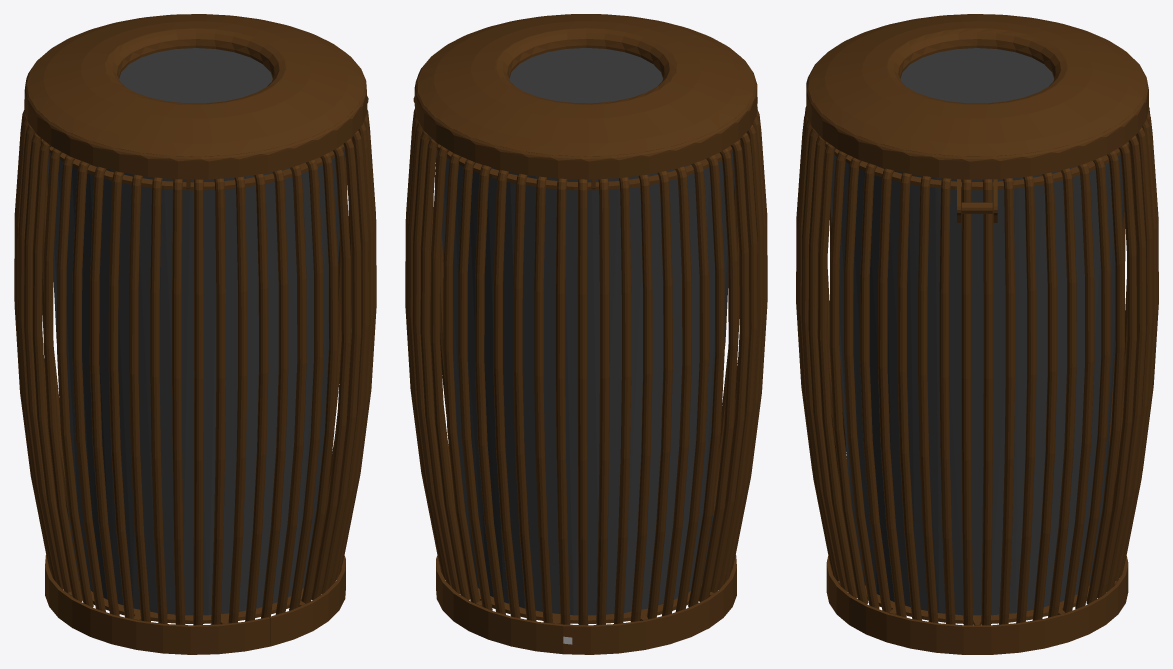
3 views of the same model, side by side, from view 1: azimuth 30°, elevation 25°; view 2: azimuth 150°, elevation 25°; view 3: azimuth 270°, elevation 25° (orthographic).
Visible parts, largest first — view 1: mesh45.002_mesh45-geometry, mesh9.002_mesh9-geometry, mesh43.002_mesh43-geometry, mesh1.062_mesh1-geometry, mesh1.092_mesh1-geometry, mesh1.095_mesh1-geometry, mesh1.054_mesh1-geometry, mesh1.096_mesh1-geometry, mesh1.061_mesh1-geometry, mesh1.053_mesh1-geometry, mesh1.063_mesh1-geometry, mesh1.093_mesh1-geometry (+20 smaller); view 2: mesh45.002_mesh45-geometry, mesh9.002_mesh9-geometry, mesh43.002_mesh43-geometry, mesh1.077_mesh1-geometry, mesh1.091_mesh1-geometry, mesh1.085_mesh1-geometry, mesh1.084_mesh1-geometry, mesh1.081_mesh1-geometry, mesh1.078_mesh1-geometry, mesh1.089_mesh1-geometry, mesh1.090_mesh1-geometry, mesh1.051_mesh1-geometry (+20 smaller); view 3: mesh45.002_mesh45-geometry, mesh9.002_mesh9-geometry, mesh43.002_mesh43-geometry, mesh1.072_mesh1-geometry, mesh1.097_mesh1-geometry, mesh1.076_mesh1-geometry, mesh1.073_mesh1-geometry, mesh1.100_mesh1-geometry, mesh1.065_mesh1-geometry, mesh1.096_mesh1-geometry, mesh1.077_mesh1-geometry, mesh1.075_mesh1-geometry (+19 smaller).
Part boxes in pixels (<box>): mesh45.002_mesh45-geometry: <box>47,48,345,615</box>; mesh9.002_mesh9-geometry: <box>24,14,367,179</box>; mesh43.002_mesh43-geometry: <box>45,555,345,654</box>; mesh1.062_mesh1-geometry: <box>43,148,82,601</box>; mesh1.092_mesh1-geometry: <box>261,170,288,618</box>; mesh1.095_mesh1-geometry: <box>301,153,338,603</box>; mesh1.054_mesh1-geometry: <box>108,171,134,618</box>; mesh1.096_mesh1-geometry: <box>311,146,351,600</box>; mesh1.061_mesh1-geometry: <box>245,174,268,621</box>; mesh1.053_mesh1-geometry: <box>89,166,119,616</box>; mesh1.063_mesh1-geometry: <box>57,155,93,607</box>; mesh1.093_mesh1-geometry: <box>275,165,306,614</box>; mesh45.002_mesh45-geometry: <box>436,48,734,615</box>; mesh9.002_mesh9-geometry: <box>414,14,757,179</box>; mesh43.002_mesh43-geometry: <box>436,555,736,654</box>; mesh1.077_mesh1-geometry: <box>430,146,469,599</box>; mesh1.091_mesh1-geometry: <box>699,148,738,601</box>; mesh1.085_mesh1-geometry: <box>577,179,588,625</box>; mesh1.084_mesh1-geometry: <box>555,178,570,624</box>; mesh1.081_mesh1-geometry: <box>493,170,520,618</box>; mesh1.078_mesh1-geometry: <box>443,153,480,603</box>; mesh1.089_mesh1-geometry: <box>647,171,672,619</box>; mesh1.090_mesh1-geometry: <box>662,166,691,616</box>; mesh1.051_mesh1-geometry: <box>688,155,724,607</box>; mesh45.002_mesh45-geometry: <box>830,48,1124,615</box>; mesh9.002_mesh9-geometry: <box>806,14,1148,179</box>; mesh43.002_mesh43-geometry: <box>826,556,1128,654</box>; mesh1.072_mesh1-geometry: <box>1032,172,1057,620</box>; mesh1.097_mesh1-geometry: <box>829,151,868,603</box>; mesh1.076_mesh1-geometry: <box>1086,150,1124,604</box>; mesh1.073_mesh1-geometry: <box>1048,168,1076,617</box>; mesh1.100_mesh1-geometry: <box>878,168,906,617</box>; mesh1.065_mesh1-geometry: <box>897,172,921,620</box>; mesh1.096_mesh1-geometry: <box>817,143,857,598</box>; mesh1.077_mesh1-geometry: <box>1097,143,1136,598</box>; mesh1.075_mesh1-geometry: <box>1075,157,1110,609</box>.
Bounding box in the file's own units: 0.4752 × 0.7456 × 0.4671.
